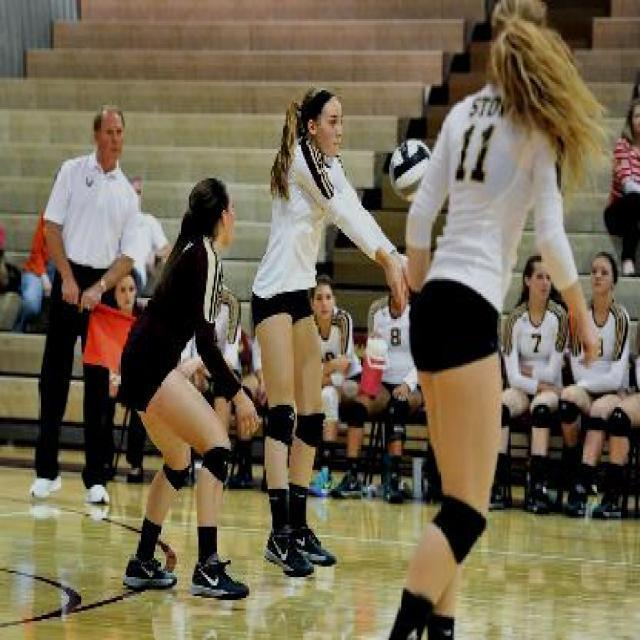volleyball: (389, 137, 434, 204)
